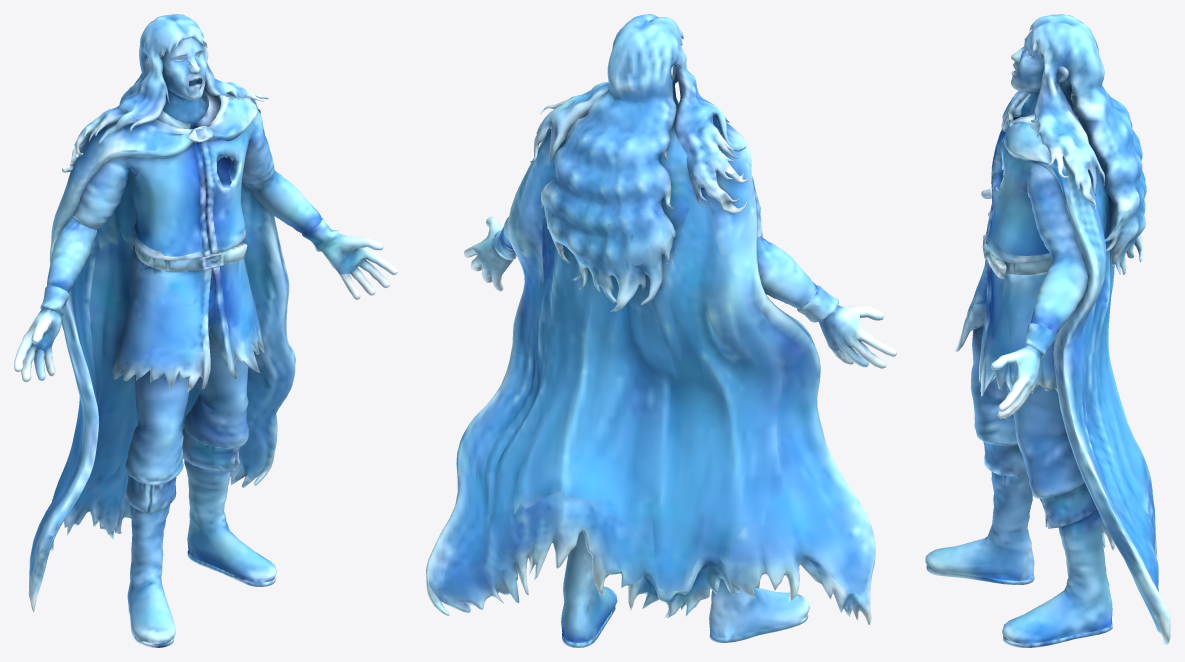
Rendered from MZ4250 - Ghost Male_2025.glb.
The picture shows the model from 3 angles, left to right: view 1: azimuth 30°, elevation 25°; view 2: azimuth 150°, elevation 25°; view 3: azimuth 270°, elevation 25°; orthographic projection. The views are drawn at different scales.
Parts seen in each view (by area): view 1: Body.002; view 2: Body.002; view 3: Body.002.
Boxes of the visible parts, x1=… form: Body.002: x1=14, y1=14, x2=397, y2=647; Body.002: x1=426, y1=14, x2=896, y2=647; Body.002: x1=925, y1=14, x2=1170, y2=647.
Bounding box in the file's own units: 64.44 × 89.63 × 34.02.
Materials: 1 (1 with a texture image).
